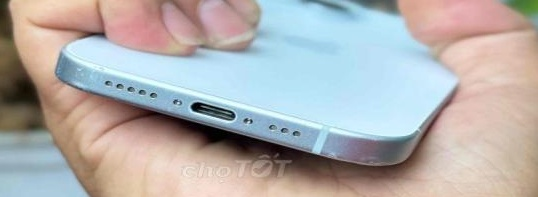scratch: (41, 41, 127, 95), (314, 138, 406, 169)
